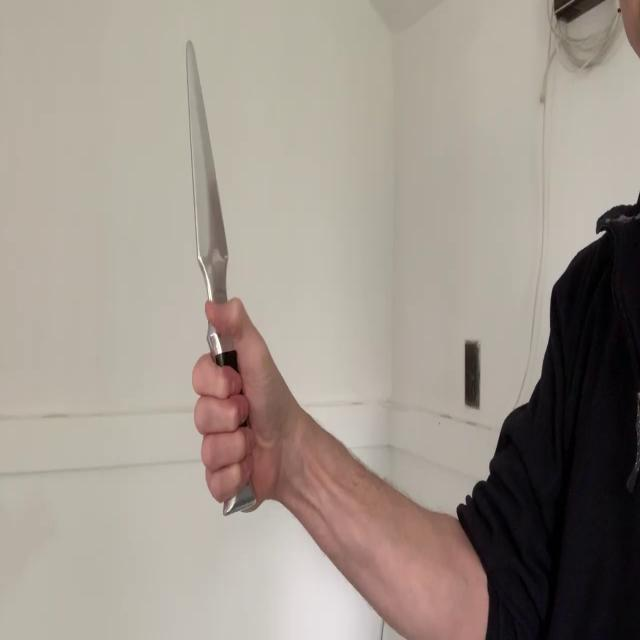Knife_Handle: (186, 38, 302, 520)
